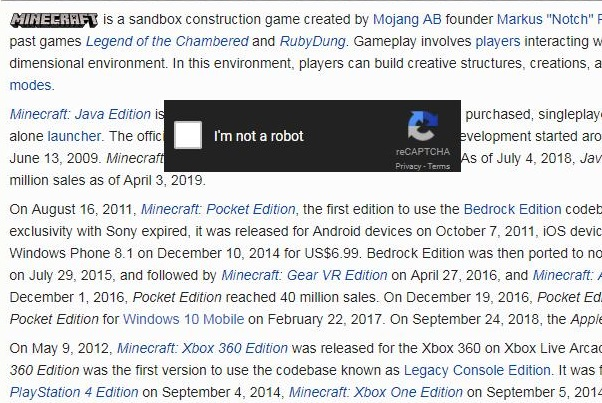captcha: (174, 120, 306, 150)
